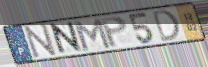5: (127, 10, 155, 46)
D: (151, 8, 182, 44)
M: (71, 17, 113, 52)
N: (23, 22, 59, 60), (50, 19, 85, 57)
P: (98, 15, 129, 50)
